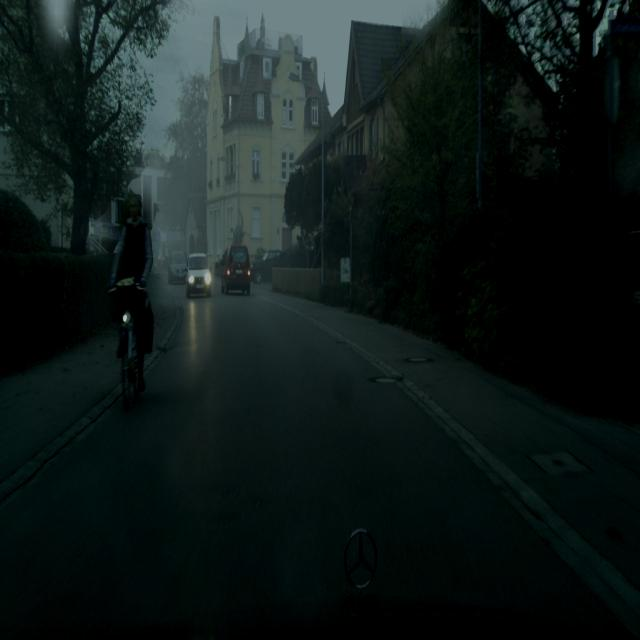person: (221, 244, 251, 296), (185, 252, 212, 298), (250, 249, 282, 284), (168, 251, 188, 284)
truck: (110, 164, 152, 409)
